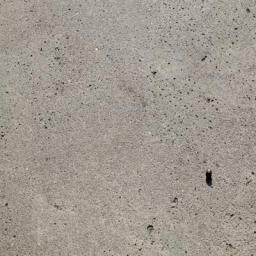FOD: (202, 166, 217, 189)
